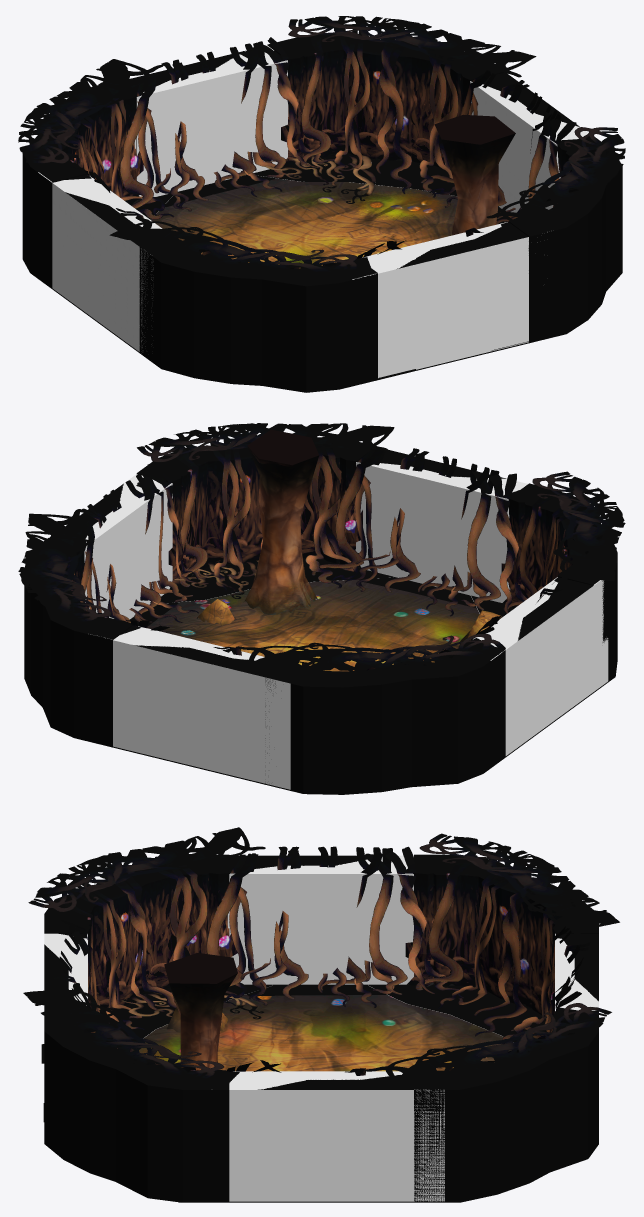
File: Dungeon_021_StartRoom_001_008.fbx
The picture shows the model from 3 angles, top to bottom: view 1: azimuth 30°, elevation 25°; view 2: azimuth 150°, elevation 25°; view 3: azimuth 270°, elevation 25°; orthographic projection. The views are drawn at different scales.
Visible parts, largest first — view 1: Dun_011_StartRoom_001_wall, DoorWay_NavMask (1) (×2), Dungeon_021_Tsuta_002, DoorWay_NavMask (×4), Dun_011_StartRoom_001_ground, un_021_Door_002_Object1 (×2), Dungeon_021_Tsuta_001, un_021_Door_002 (×4), Dungeon_011_Object_010, Dun_011_StartRoom_001_shadow, Dungeon_021_Tsuta_003, Dun_011_Door_002_shadow; view 2: Dun_011_StartRoom_001_wall, DoorWay_NavMask (1) (×2), DoorWay_NavMask (×4), Dungeon_021_Tsuta_002, Dun_011_StartRoom_001_ground, un_021_Door_002_Object1 (×2), un_021_Door_002 (×4), Dungeon_011_Object_010, Dungeon_021_Tsuta_001, Dun_011_StartRoom_001_shadow, Dun_011_Door_002_shadow, Dungeon_021_Tsuta_003 (+1 smaller); view 3: Dun_011_StartRoom_001_wall, DoorWay_NavMask (1) (×2), Dungeon_021_Tsuta_002, DoorWay_NavMask (×4), Dun_011_StartRoom_001_ground, un_021_Door_002_Object1 (×3), Dungeon_021_Tsuta_001, un_021_Door_002 (×4), Dungeon_011_Object_010, Dun_011_StartRoom_001_shadow, Dun_011_Door_002_shadow, Dungeon_021_Tsuta_003.
Part boxes in pixels (left/top/right/bottom): Dun_011_StartRoom_001_wall: left=22, top=34, right=622, bottom=392; DoorWay_NavMask (1) (×2): left=38, top=172, right=547, bottom=378; Dungeon_021_Tsuta_002: left=18, top=16, right=625, bottom=275; DoorWay_NavMask (×4): left=53, top=46, right=587, bottom=273; Dun_011_StartRoom_001_ground: left=150, top=178, right=457, bottom=268; un_021_Door_002_Object1 (×2): left=120, top=37, right=576, bottom=224; Dungeon_021_Tsuta_001: left=41, top=28, right=608, bottom=269; un_021_Door_002 (×4): left=34, top=37, right=600, bottom=379; Dungeon_011_Object_010: left=434, top=114, right=515, bottom=235; Dun_011_StartRoom_001_shadow: left=131, top=155, right=528, bottom=378; Dungeon_021_Tsuta_003: left=265, top=152, right=375, bottom=203; Dun_011_Door_002_shadow: left=165, top=175, right=276, bottom=206; Dun_011_StartRoom_001_wall: left=24, top=442, right=617, bottom=794; DoorWay_NavMask (1) (×2): left=90, top=580, right=608, bottom=789; DoorWay_NavMask (×4): left=84, top=462, right=557, bottom=660; Dungeon_021_Tsuta_002: left=18, top=423, right=625, bottom=673; Dun_011_StartRoom_001_ground: left=147, top=580, right=479, bottom=671; un_021_Door_002_Object1 (×2): left=77, top=447, right=527, bottom=622; un_021_Door_002 (×4): left=42, top=441, right=599, bottom=784; Dungeon_011_Object_010: left=244, top=429, right=319, bottom=614; Dungeon_021_Tsuta_001: left=42, top=439, right=602, bottom=670; Dun_011_StartRoom_001_shadow: left=161, top=558, right=514, bottom=616; Dun_011_Door_002_shadow: left=359, top=577, right=476, bottom=607; Dungeon_021_Tsuta_003: left=174, top=560, right=258, bottom=598; Dun_011_StartRoom_001_wall: left=44, top=855, right=598, bottom=1202; DoorWay_NavMask (1) (×2): left=44, top=933, right=444, bottom=1201; Dungeon_021_Tsuta_002: left=23, top=827, right=619, bottom=1087; DoorWay_NavMask (×4): left=45, top=856, right=598, bottom=1089; Dun_011_StartRoom_001_ground: left=139, top=994, right=511, bottom=1202; un_021_Door_002_Object1 (×3): left=53, top=846, right=589, bottom=1048; Dungeon_021_Tsuta_001: left=64, top=854, right=578, bottom=1072; un_021_Door_002 (×4): left=44, top=854, right=598, bottom=1202; Dungeon_011_Object_010: left=164, top=953, right=237, bottom=1070; Dun_011_StartRoom_001_shadow: left=41, top=984, right=546, bottom=1121; Dun_011_Door_002_shadow: left=246, top=984, right=386, bottom=996; Dungeon_021_Tsuta_003: left=121, top=985, right=264, bottom=1019.
Size of what is drawn, in the model's own units: 10.31 by 2.96 by 10.
